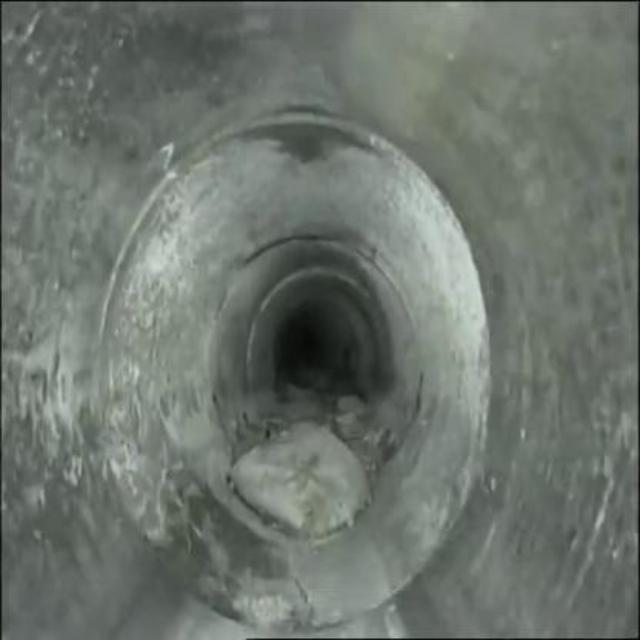Obstacle: (208, 372, 397, 578)
